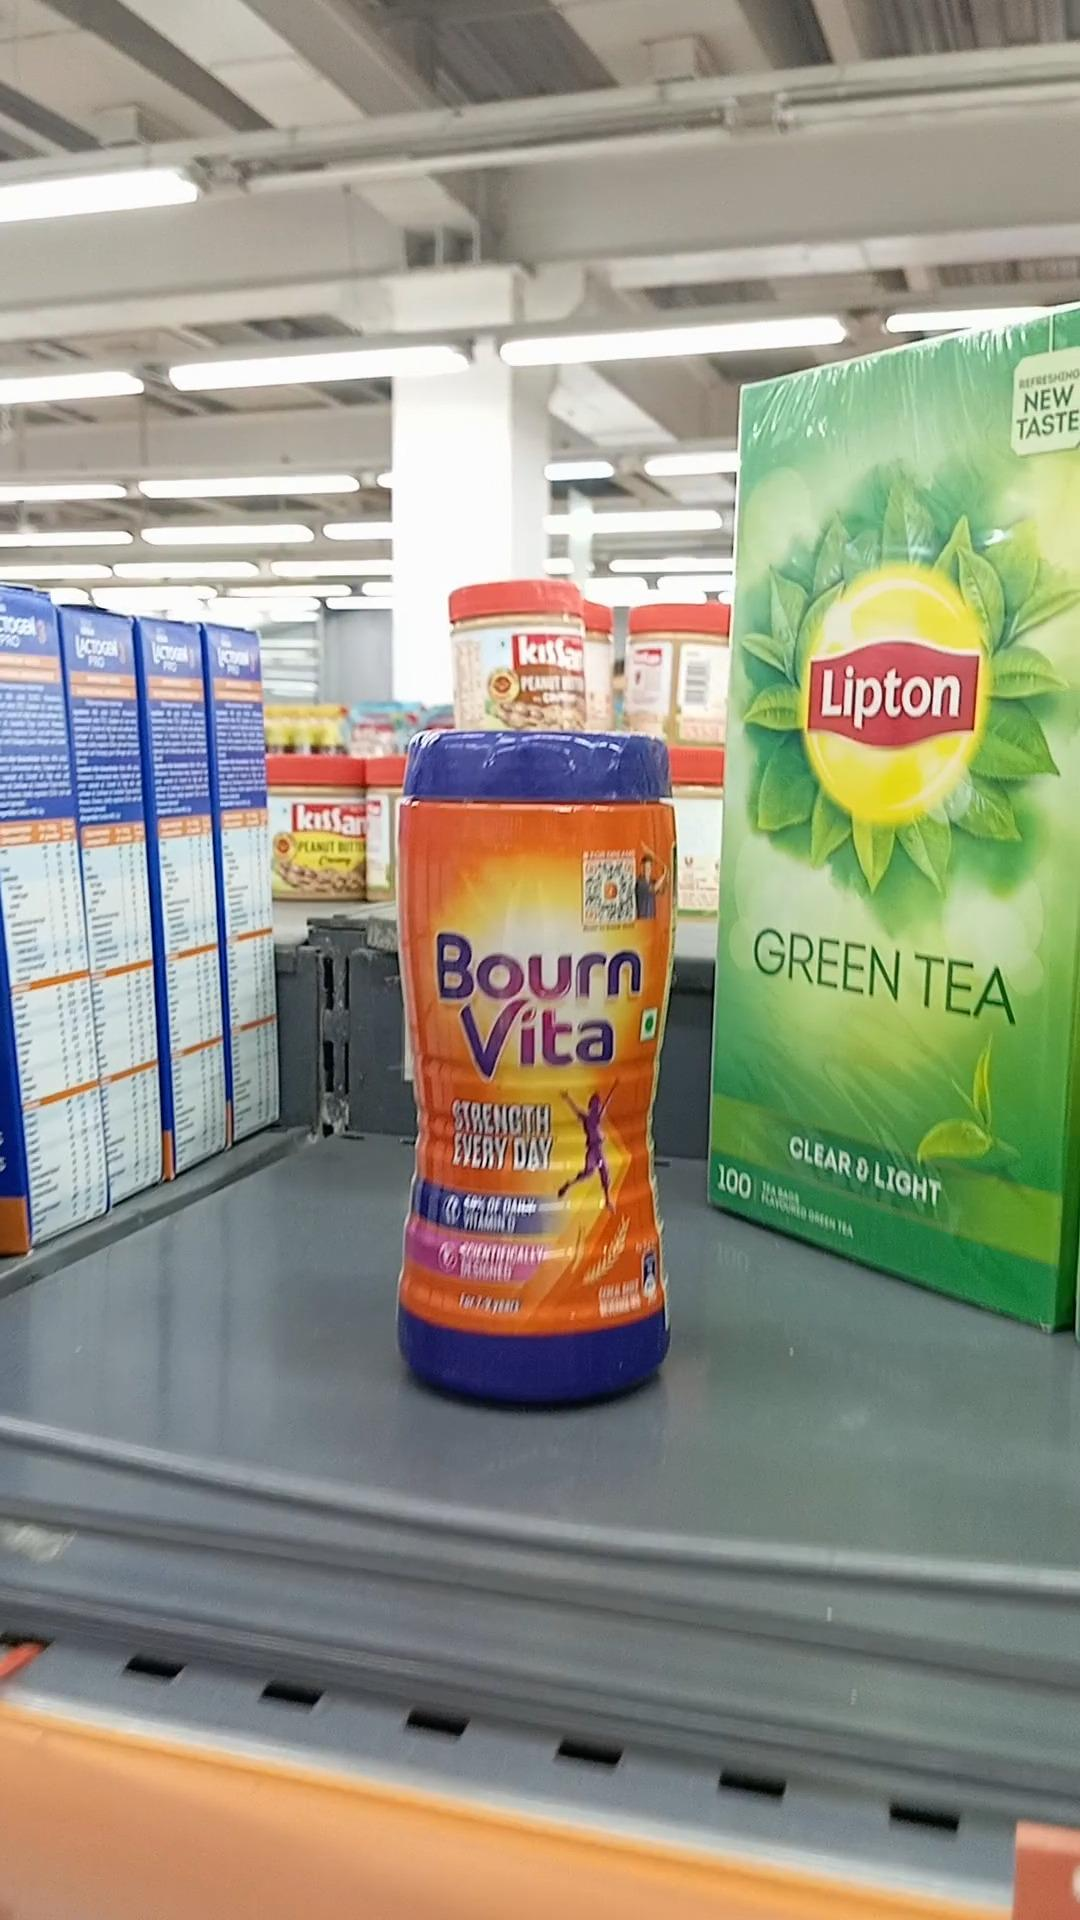BOURN_VITA_200_G_JAR: (392, 729, 671, 1411)
